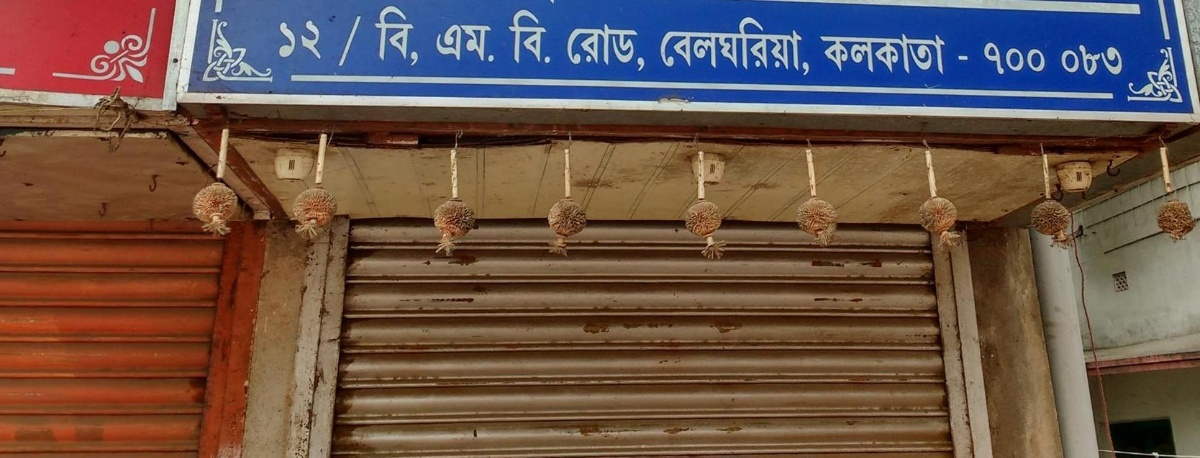text: (369, 3, 384, 79), (385, 3, 400, 79), (401, 3, 416, 79), (657, 13, 672, 79), (673, 13, 688, 79), (689, 13, 704, 79), (705, 13, 720, 79), (721, 13, 736, 79), (737, 13, 752, 79), (753, 13, 768, 79), (769, 13, 784, 79), (785, 13, 800, 79), (833, 25, 848, 85), (849, 25, 864, 85), (865, 25, 880, 85), (881, 25, 896, 85), (897, 25, 912, 85), (913, 25, 928, 85), (929, 25, 944, 85), (945, 25, 960, 85), (273, 13, 288, 71), (289, 13, 304, 71), (305, 13, 320, 71), (321, 13, 336, 71), (337, 13, 352, 71), (513, 8, 528, 66), (529, 8, 544, 66), (577, 21, 592, 75), (593, 21, 608, 75), (609, 21, 624, 75), (625, 21, 640, 75), (801, 13, 813, 79), (993, 35, 1008, 86), (1009, 35, 1024, 86), (1025, 35, 1040, 86), (1041, 35, 1056, 86), (1057, 35, 1072, 86), (1073, 35, 1088, 86), (1089, 35, 1104, 86), (1105, 35, 1120, 86), (433, 19, 448, 69), (449, 19, 464, 69), (465, 19, 480, 69), (481, 19, 496, 69), (820, 25, 832, 85), (353, 13, 365, 71), (961, 25, 972, 85), (980, 35, 992, 86), (417, 3, 425, 79), (545, 8, 555, 66), (566, 21, 576, 75), (641, 21, 649, 75), (1121, 35, 1128, 86), (497, 19, 502, 69), (508, 8, 512, 66), (270, 13, 272, 71), (430, 19, 432, 69), (655, 13, 656, 79)
